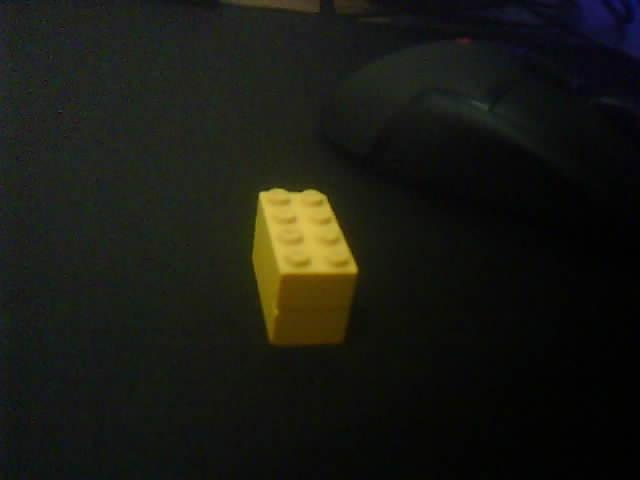lego: (250, 187, 360, 346)
